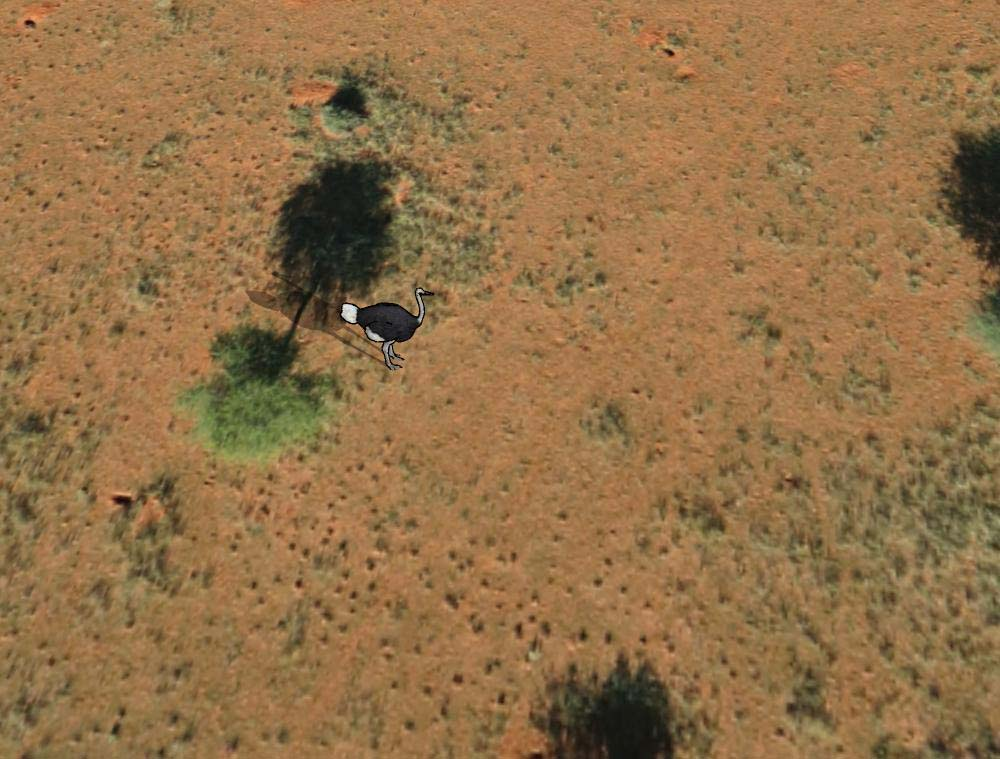springbok: (337, 282, 440, 372)
